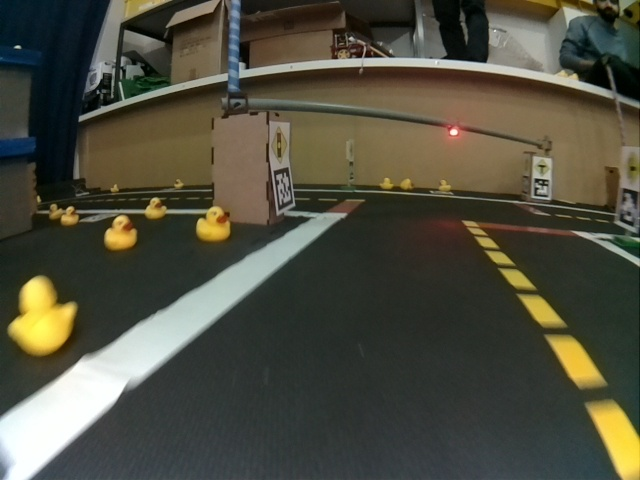Duckie: (10, 276, 76, 356), (197, 208, 230, 241), (105, 215, 137, 248), (145, 197, 166, 219), (62, 207, 79, 225), (49, 203, 61, 219), (439, 180, 450, 191), (381, 178, 393, 188), (401, 179, 411, 189), (173, 179, 183, 189), (109, 184, 119, 193)
Intersection sign: (621, 150, 638, 185), (533, 158, 551, 177)
QR code: (272, 167, 295, 212), (616, 189, 637, 226), (534, 178, 549, 199), (522, 176, 530, 196)
Signal sign: (270, 122, 289, 163)
Traffic light: (448, 125, 459, 137)
